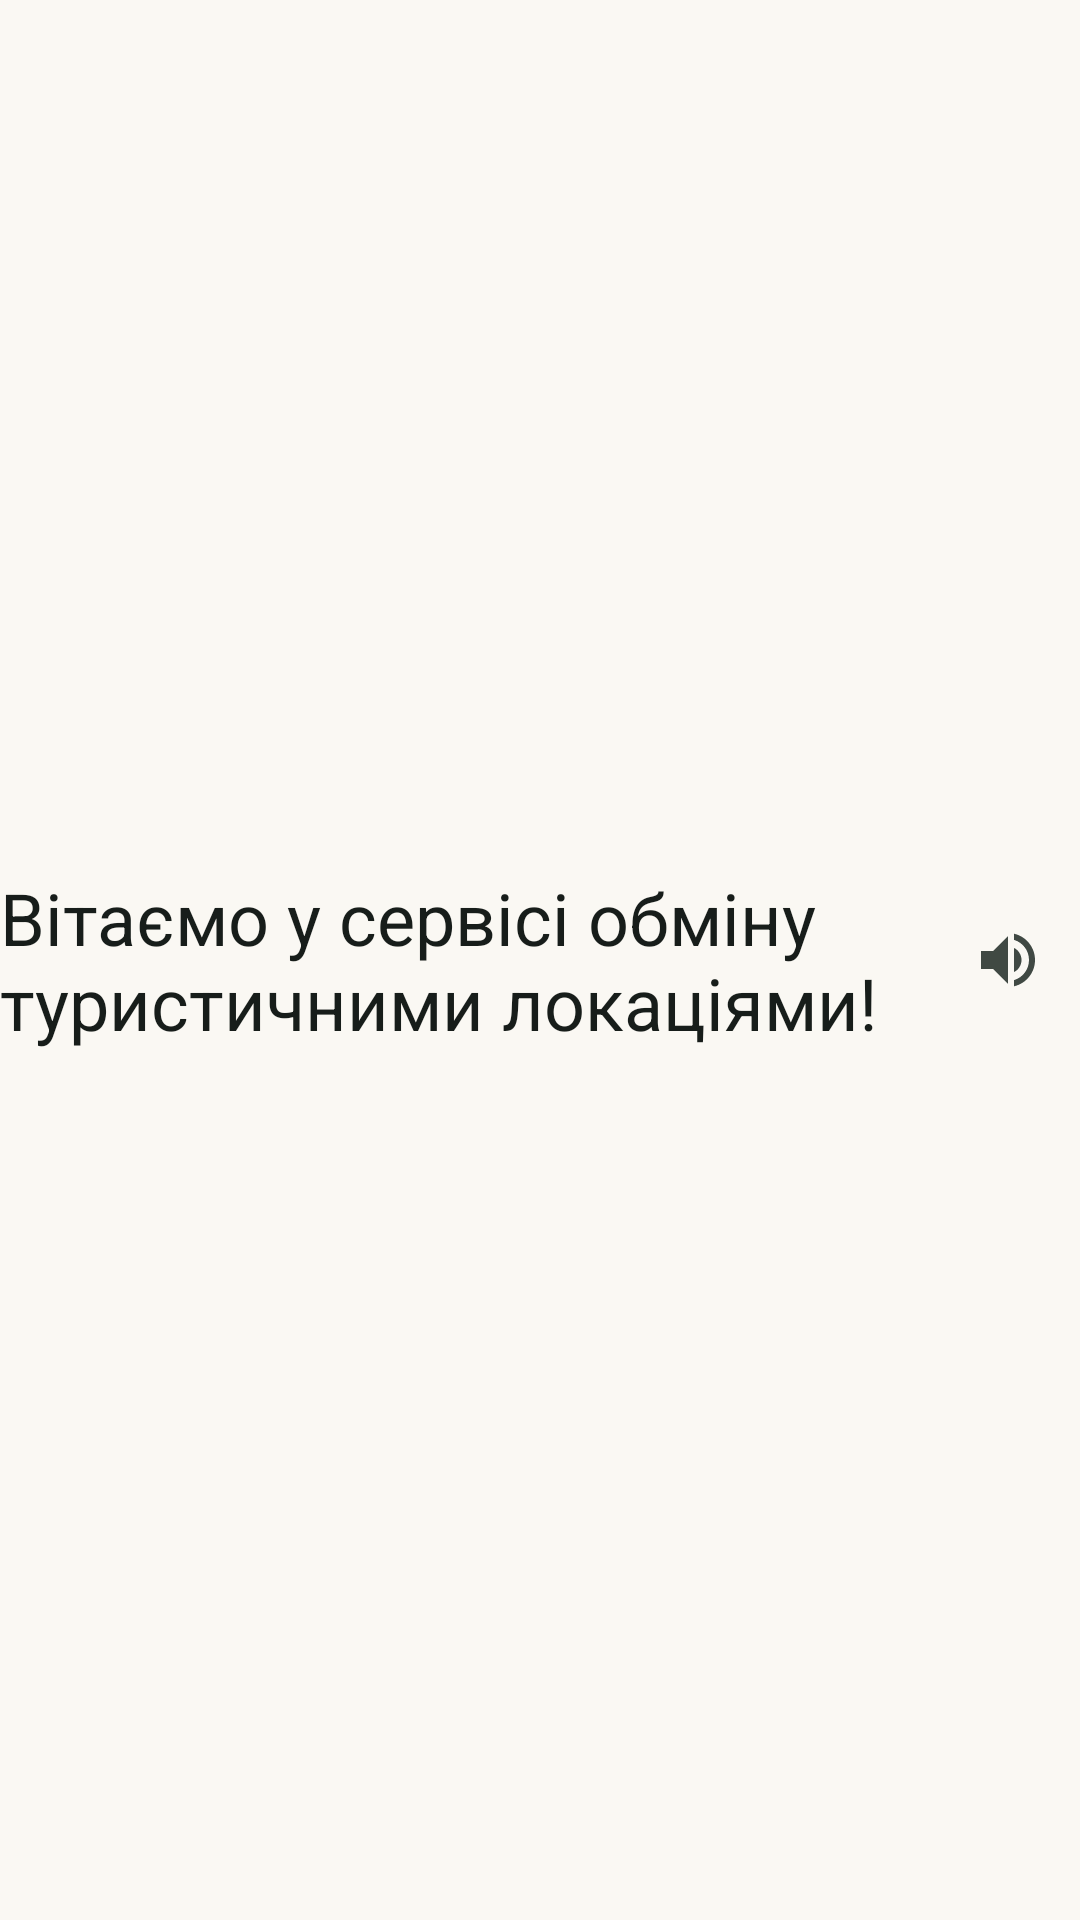

Icon click points for this 1080w x 1920h phone screenshot, format [x,y]:
Відтворити звук: [1008,960]
